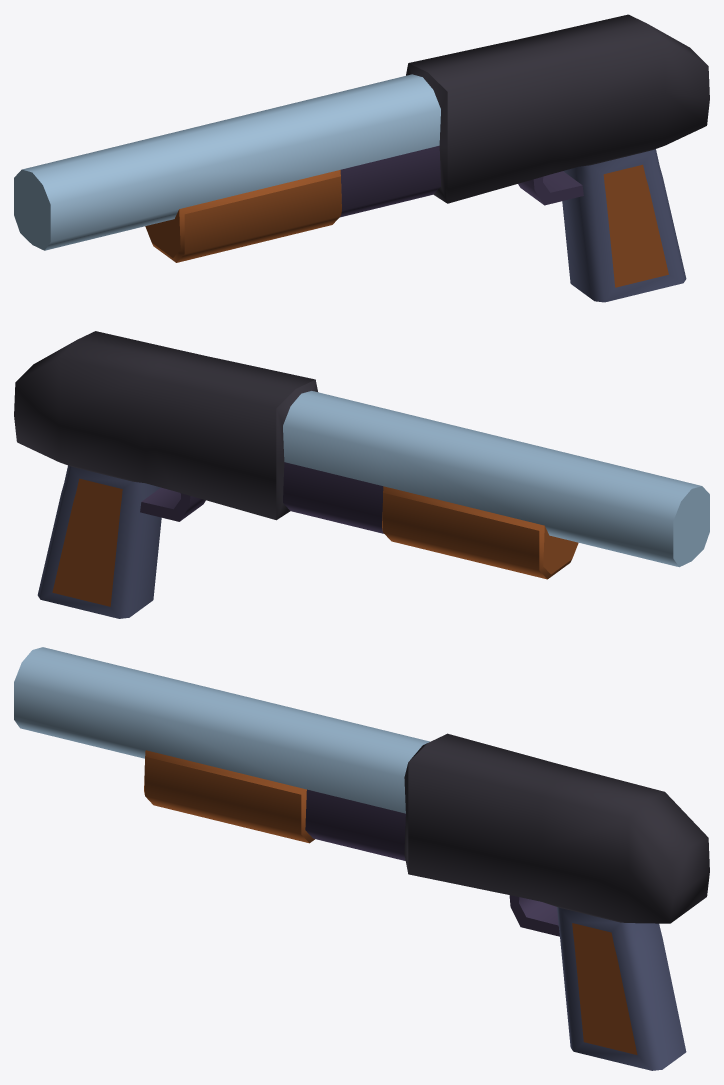
Rendered from Shotgun.fbx.
3 views of the same model, one above another, from view 1: azimuth 30°, elevation 25°; view 2: azimuth 150°, elevation 25°; view 3: azimuth 330°, elevation 25° (orthographic).
Visible parts, largest first — view 1: Shotgun_Gun_01a; view 2: Shotgun_Gun_01a; view 3: Shotgun_Gun_01a.
Boxes of the visible parts, x1,y1,x2,y2 form: Shotgun_Gun_01a: (14,14,709,302); Shotgun_Gun_01a: (14,331,709,618); Shotgun_Gun_01a: (14,647,709,1070).
Size of the model in its own units: 120 by 45 by 12.52.
